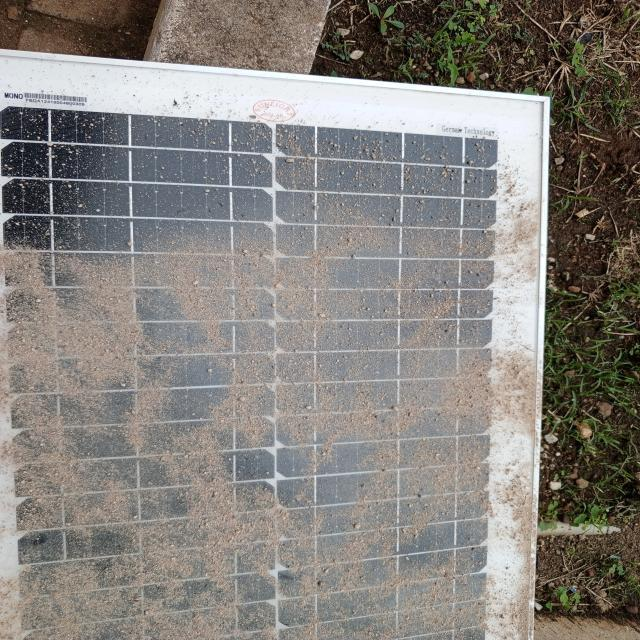Anomaly Solar Panel: (5, 79, 517, 639)
Surface Contaminant: (18, 118, 502, 639)
